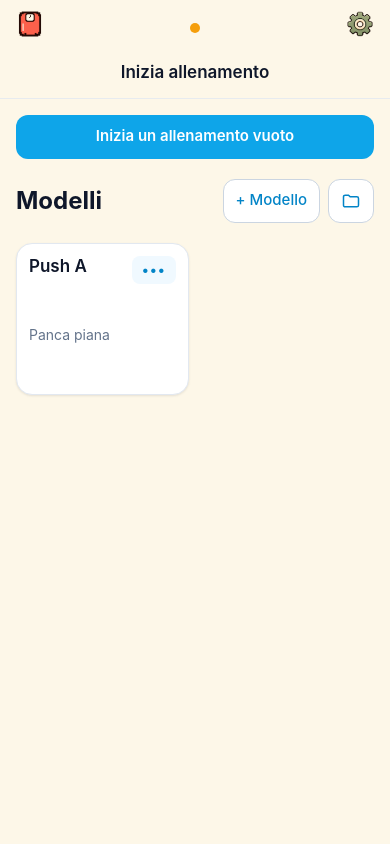
Test case: sessione locale nell'IPA › C20: senza dettaglio del modello in cache e senza rete, l'anteprima non avvia nulla
What coordinates should you click on to do the following:
click the button "Push A"
I would click on:
 (58, 266)
Its box is [29,256,87,277].
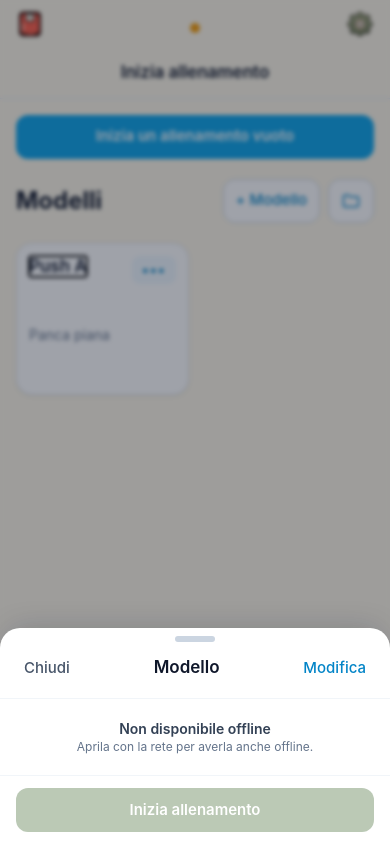
Expected: the text "Non disponibile offline" is shown, [119,720,271,737]
Expected: the button "Inizia allenamento" is disabled, [16,788,374,832]
